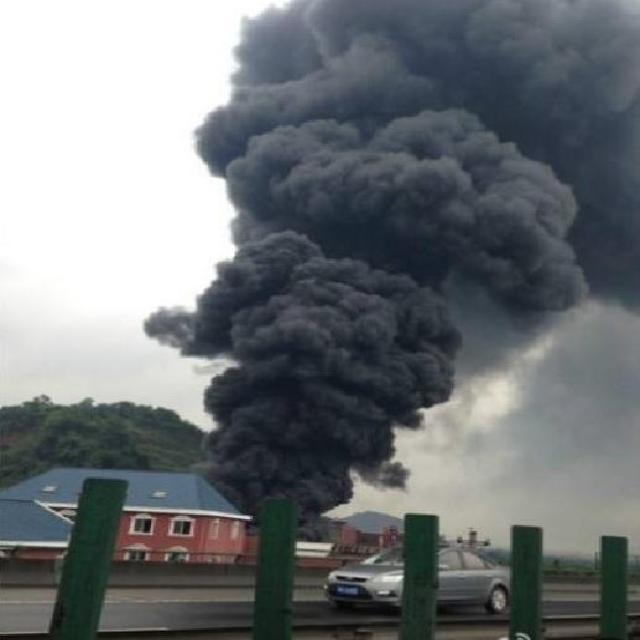Smoke: (141, 1, 640, 542)
